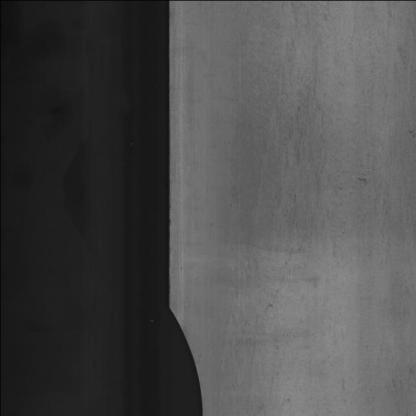crescent_gap: (156, 299, 206, 416)
